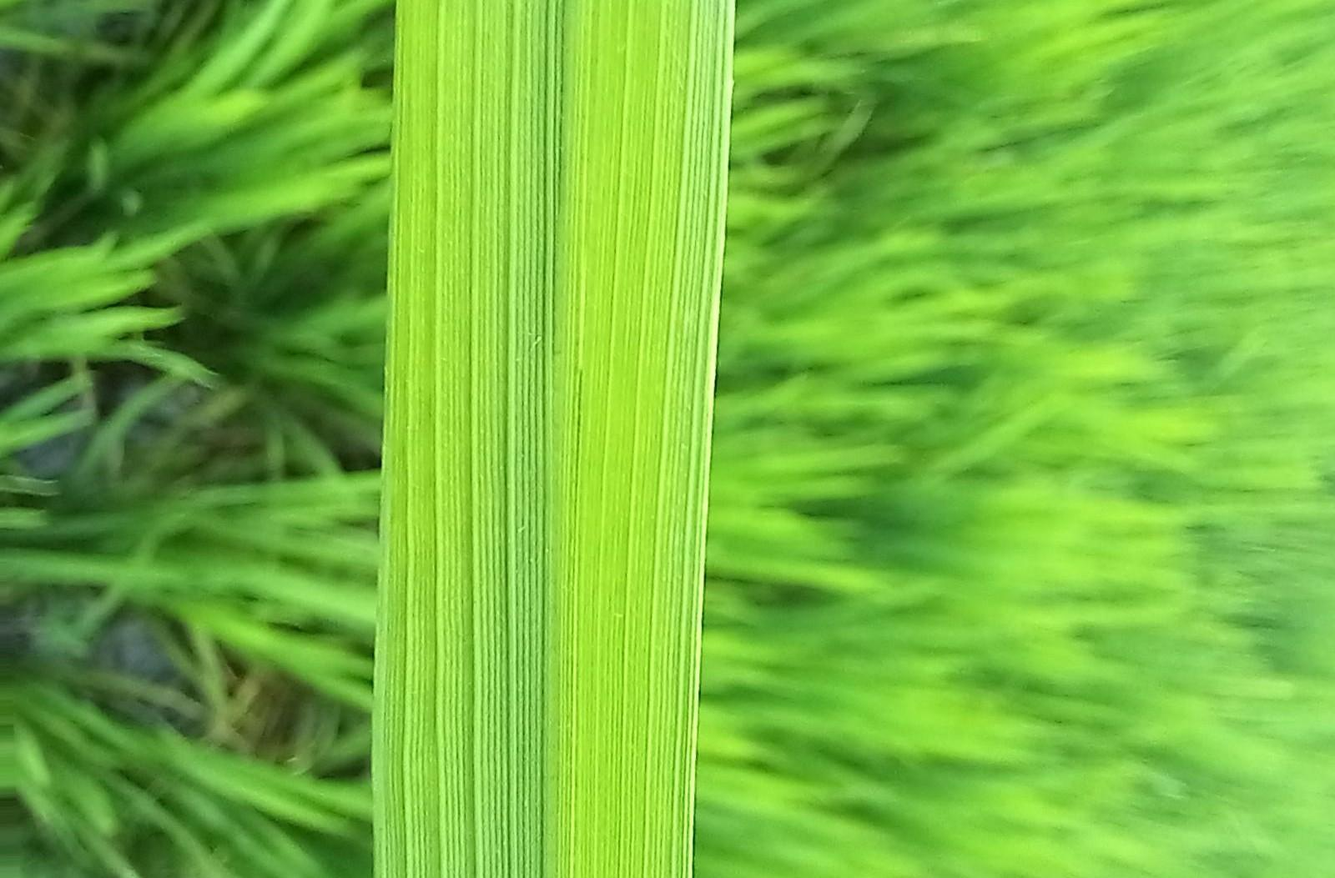Healthy: (373, 1, 735, 877)
